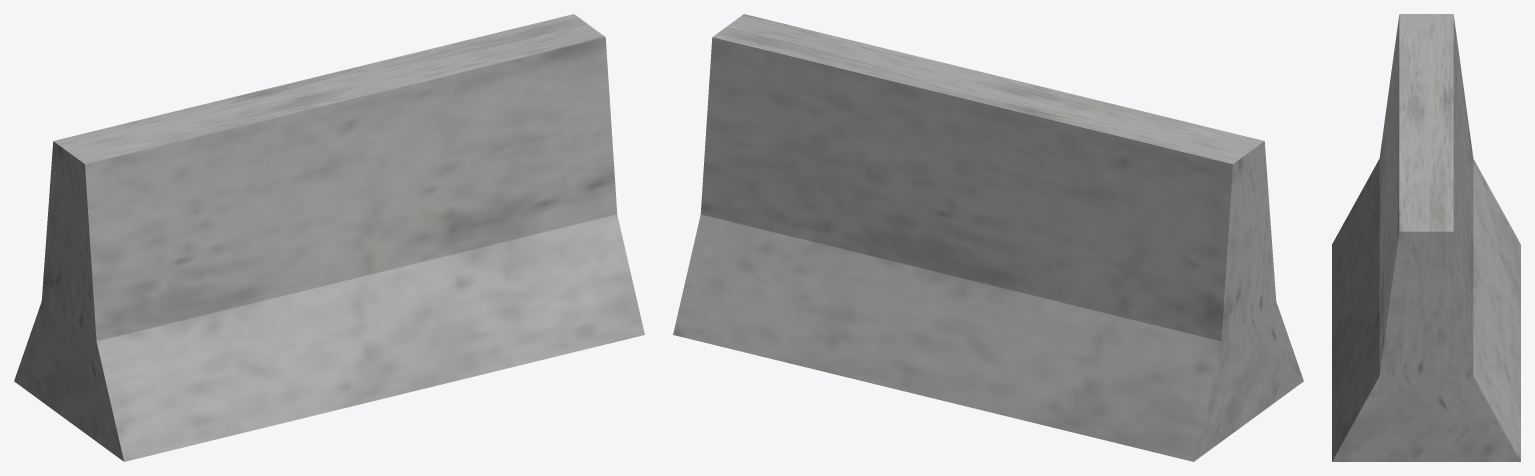
Rendered from RoadBlock.fbx.
3 renders of one model, left to right at view 1: azimuth 30°, elevation 25°; view 2: azimuth 150°, elevation 25°; view 3: azimuth 270°, elevation 25°, orthographic. The views are drawn at different scales.
Parts seen in each view (by area): view 1: ConcreteBlock2; view 2: ConcreteBlock2; view 3: ConcreteBlock2.
Boxes of the visible parts, <box> form: ConcreteBlock2: <box>14,14,644,461</box>; ConcreteBlock2: <box>673,14,1303,461</box>; ConcreteBlock2: <box>1332,14,1520,461</box>.
Size of the model in its own units: 506 by 250 by 185.
